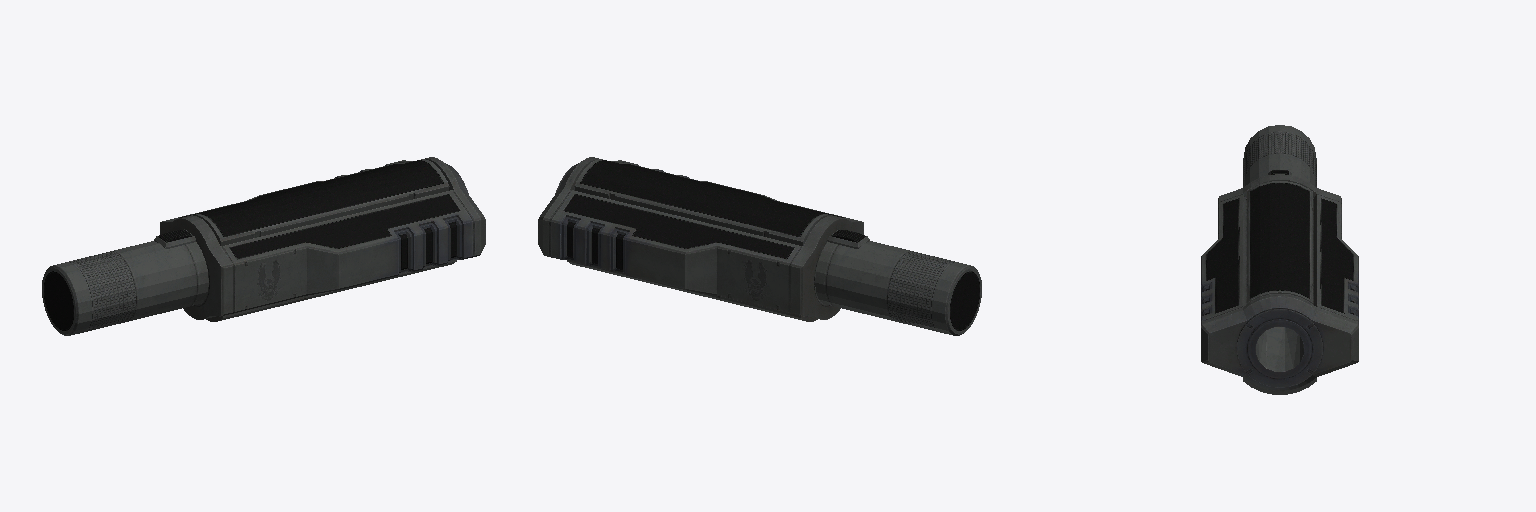
The picture shows the model from 3 angles: view 1: azimuth 30°, elevation 25°; view 2: azimuth 150°, elevation 25°; view 3: azimuth 270°, elevation 25°; orthographic projection.
Visible parts, largest first — view 1: unsc_silencer_long; view 2: unsc_silencer_long; view 3: unsc_silencer_long.
Part boxes in pixels (left/top/right/bottom): unsc_silencer_long: left=42, top=157, right=485, bottom=335; unsc_silencer_long: left=538, top=157, right=981, bottom=335; unsc_silencer_long: left=1201, top=125, right=1358, bottom=394.
Bounding box in the file's own units: 0.1712 × 0.0416 × 0.0596.
1 materials, 1 textured.